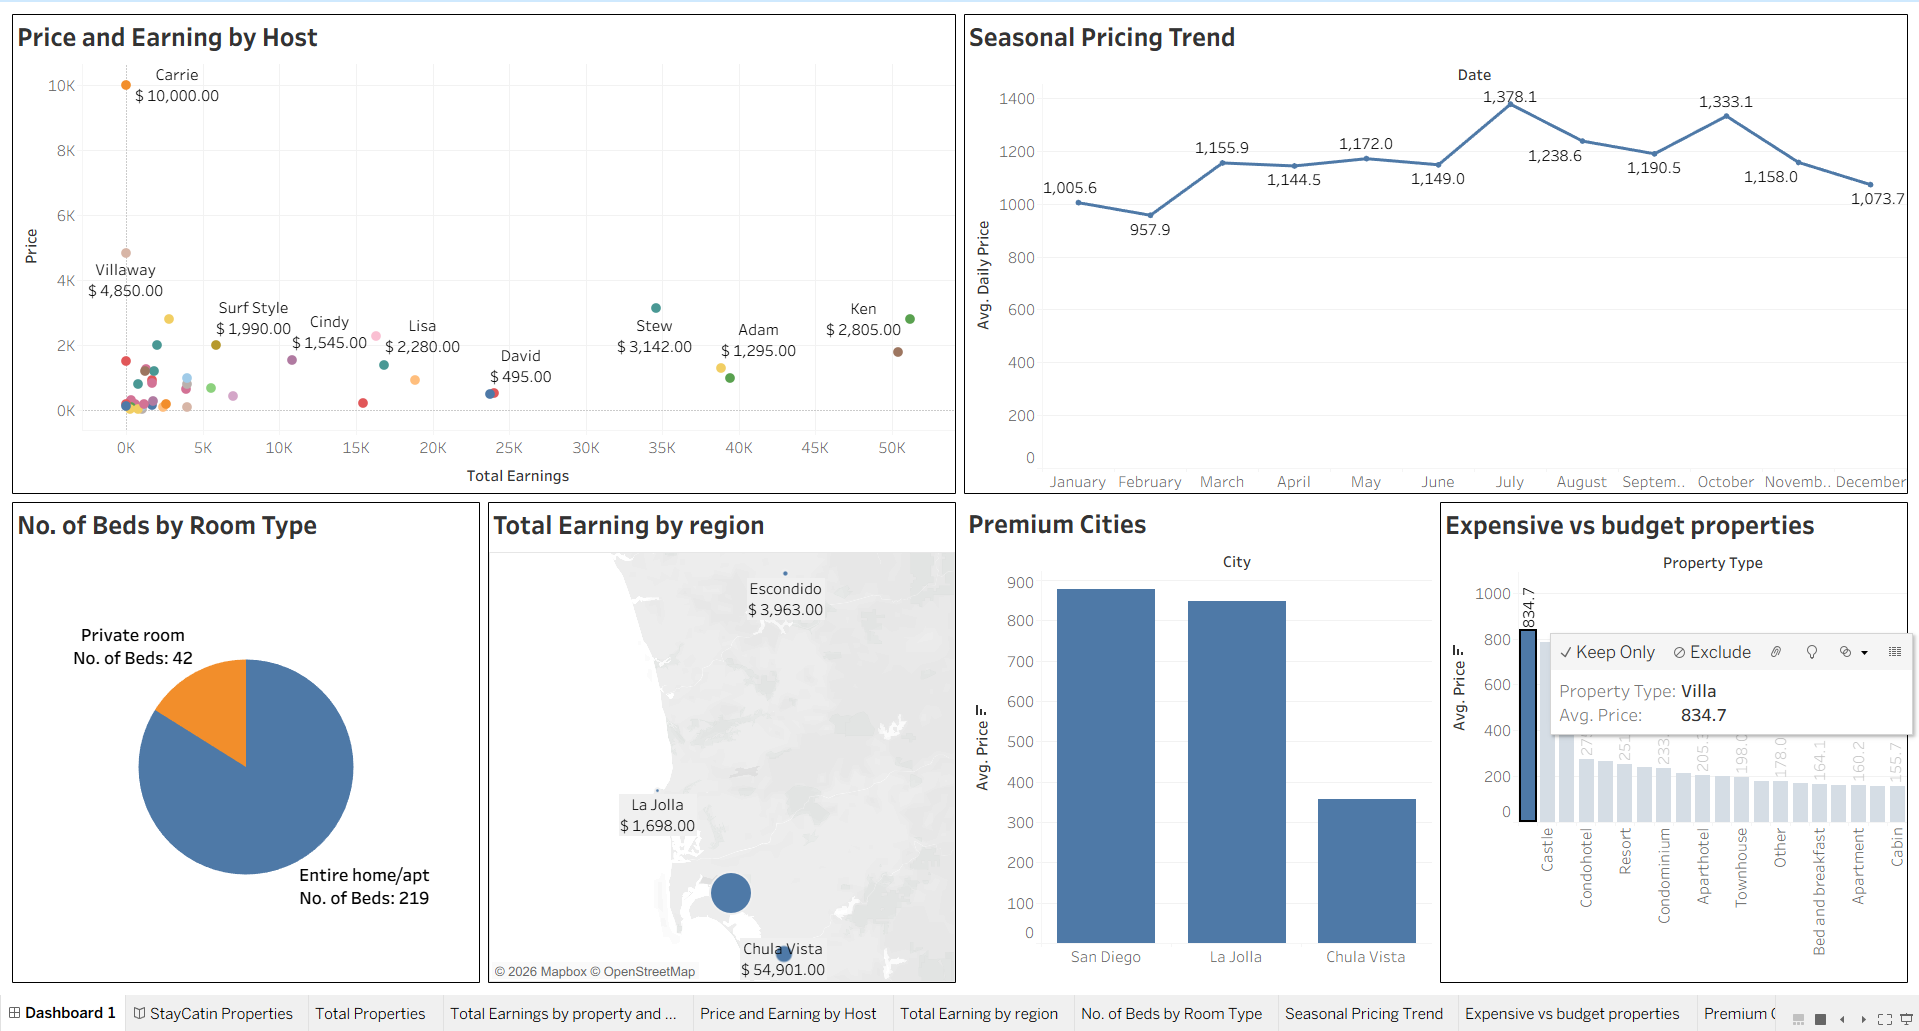

What the dashboard file says about the page in this screenshot:
{"tool":"tableau","page":{"name":"Dashboard 1","canvas":[1000,1000],"units":"permille","ordinal":0},"visuals":[{"type":"worksheet","title":"Price and Earning by Host","mark":"Automatic","rows":["PRICE"],"cols":["Calculation_1278740853684789248"],"box":[4.9,10.7,495,489.1]},{"type":"worksheet","title":"Seasonal Pricing Trend","mark":"Automatic","rows":["DAILY_PRICE"],"cols":["DATE"],"box":[499.9,10.7,495.2,489.1]},{"type":"worksheet","title":"No. of Beds by Room Type","mark":"Pie","box":[4.9,499.8,247.4,489.4]},{"type":"worksheet","title":"Total Earning by region","mark":"Automatic","box":[252.3,499.8,247.7,489.4]},{"type":"worksheet","title":"Expensive vs budget properties","mark":"Automatic","rows":["PRICE"],"cols":["PROPERTY_TYPE"],"box":[500,499.8,495.1,489.4]}]}

Visuals, with their boxes on the dashboard's canvas, which has no fixed pixel size, in thousandths of its width and height (x1, y1, x2, y2). These are canvas units, not pixel positions in the 1919x1031 screenshot, which may show the page scaled, cropped or inside an application window:
"Price and Earning by Host" worksheet: [left=5, top=11, right=500, bottom=500]
"Seasonal Pricing Trend" worksheet: [left=500, top=11, right=995, bottom=500]
"No. of Beds by Room Type" worksheet (Pie marks): [left=5, top=500, right=252, bottom=989]
"Total Earning by region" worksheet: [left=252, top=500, right=500, bottom=989]
"Expensive vs budget properties" worksheet: [left=500, top=500, right=995, bottom=989]
